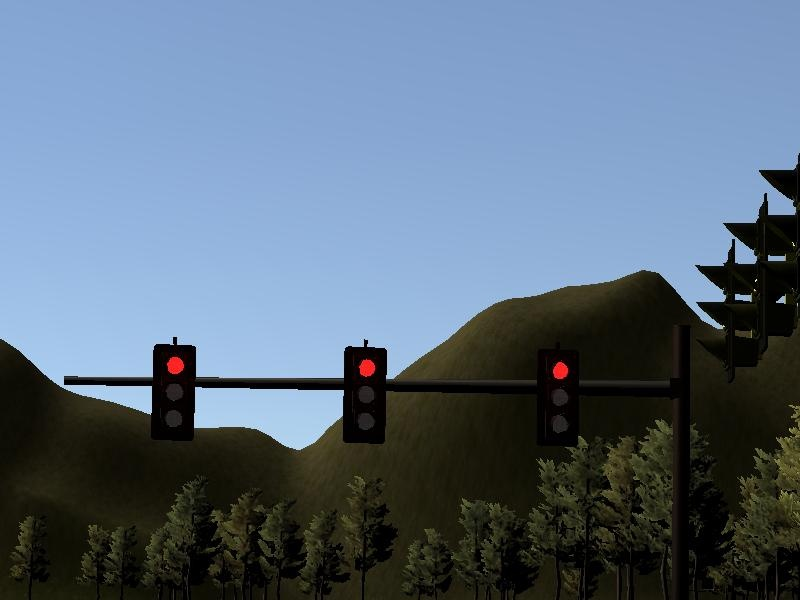traffic_light_red: (135, 340, 645, 447)
